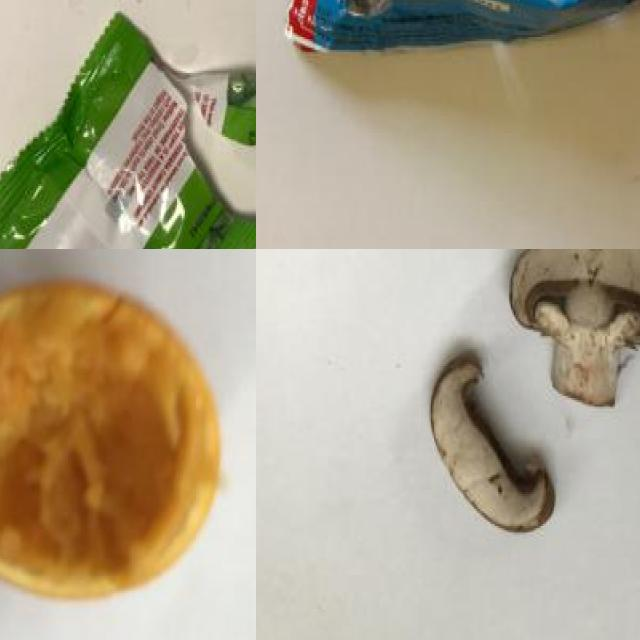compost: (0, 249, 242, 607), (421, 249, 640, 554)
trash: (0, 0, 256, 249), (284, 0, 640, 73)
